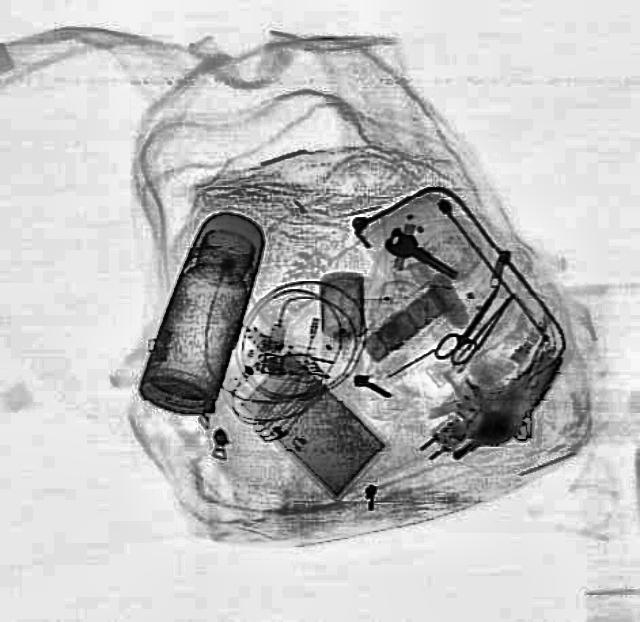Scissors: (428, 278, 514, 370)
